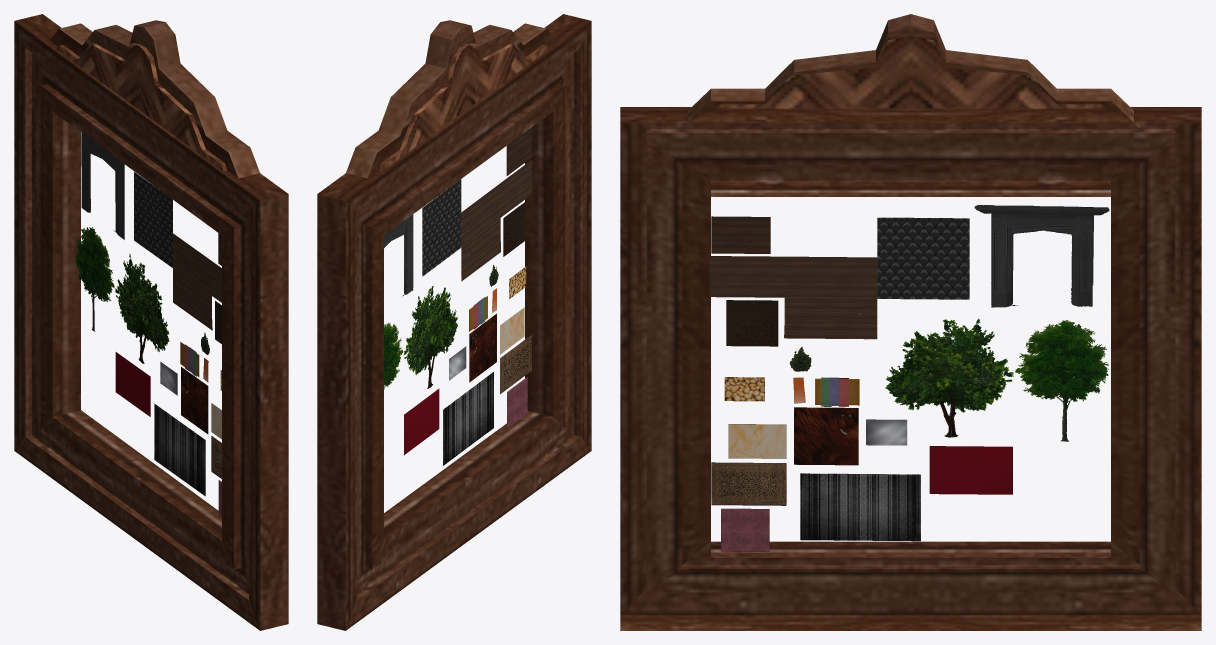
The model's file is Painting2.fbx.
3 views of the same model, side by side, from view 1: azimuth 30°, elevation 25°; view 2: azimuth 150°, elevation 25°; view 3: azimuth 270°, elevation 25° (orthographic). The views are drawn at different scales.
Visible parts, largest first — view 1: Cube.048; view 2: Cube.048; view 3: Cube.048.
Part boxes in pixels (x1,y1,x2,y2): Cube.048: [14, 14, 288, 630]; Cube.048: [317, 14, 591, 630]; Cube.048: [620, 14, 1201, 630].
Bounding box in the file's own units: 11.33 × 195 × 170.
